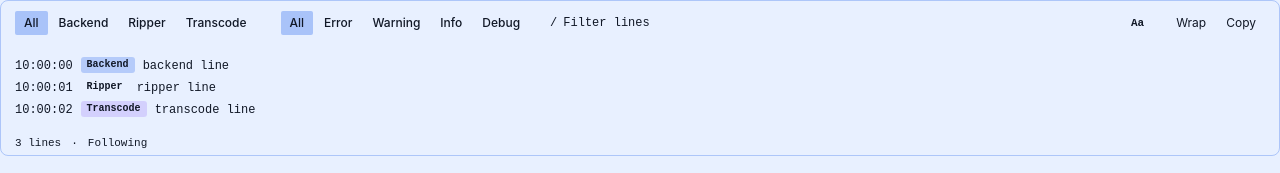
Test case: LogView › shows the match count and a clear control only while a query is set
Type "line" into the field with test id "job-log-search".
click(842, 23); type("line")  # box [563, 16, 1120, 30]
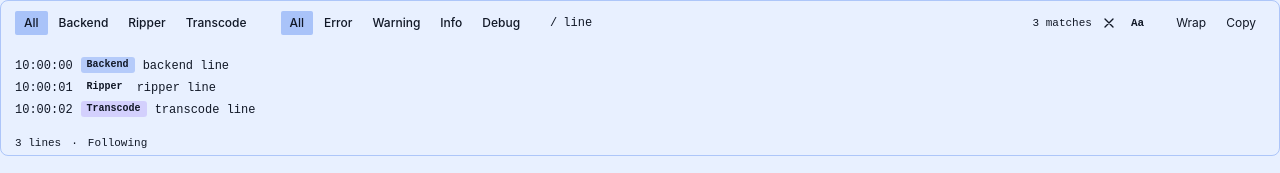
Result: the text with test id "job-log-search-count" reads "3 matches" at [1032, 17, 1092, 29]
Replace the text in the field with test id "job-log-search" with "ripper" at (795, 23), box [563, 16, 1026, 30]
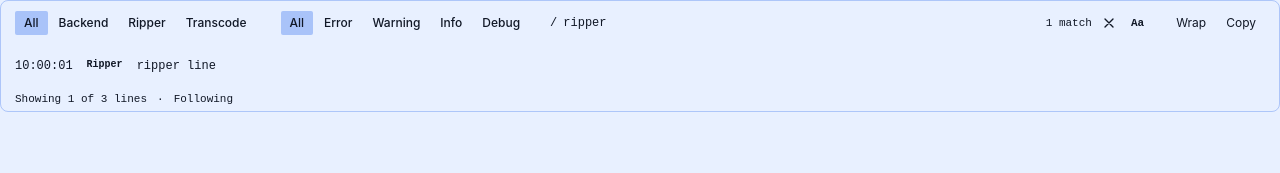
Result: the text with test id "job-log-search-count" reads "1 match" at [1046, 17, 1092, 29]
Click the button named "Clear filter".
click(1109, 23)  # box [1098, 13, 1120, 33]
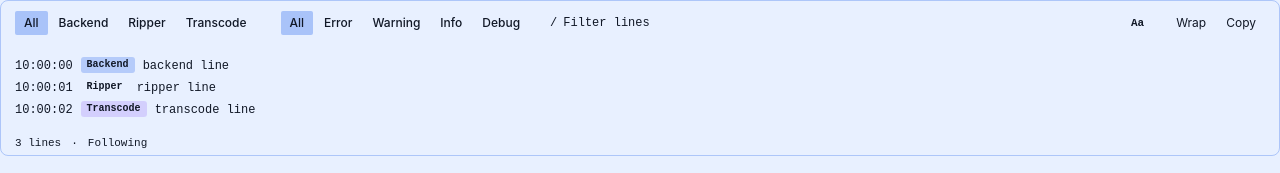
Result: the field with test id "job-log-search" is empty at [563, 16, 1120, 30]
Result: the text "backend line" is shown at [143, 57, 229, 75]
Result: the text with test id "job-log-search-count" is gone
